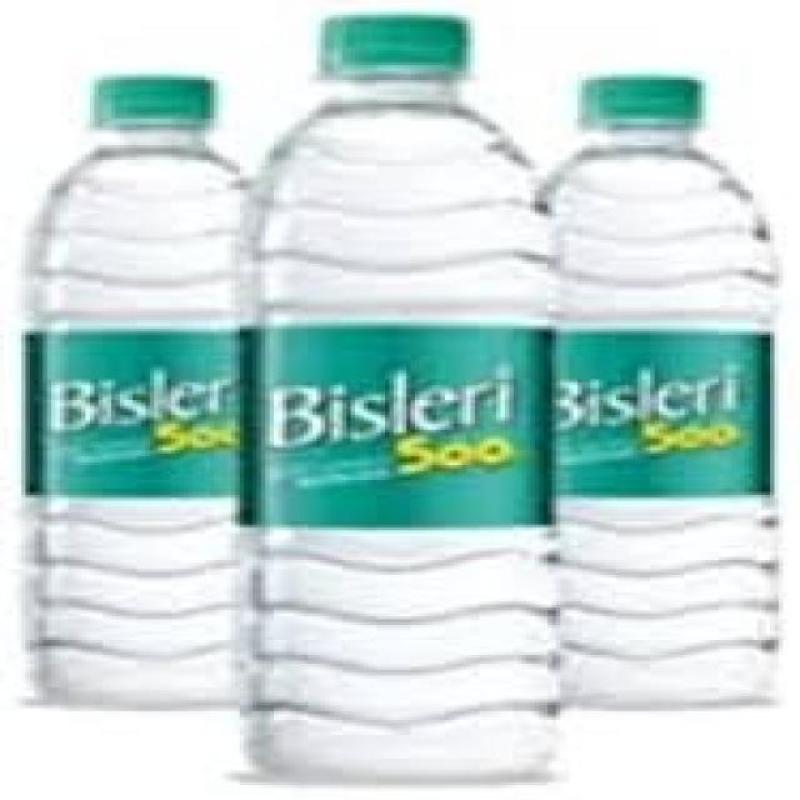botella: (246, 13, 554, 781), (543, 76, 783, 713), (21, 77, 256, 706)
